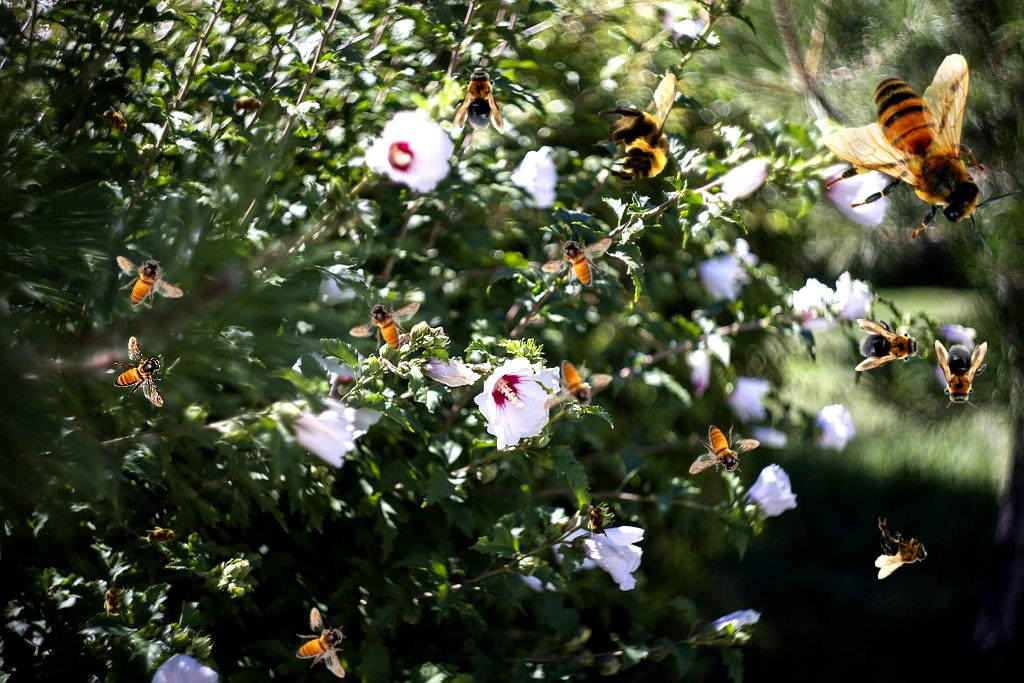Bee: (823, 53, 1022, 257), (590, 71, 697, 186), (102, 237, 186, 324), (542, 360, 613, 410), (689, 425, 760, 475), (296, 607, 346, 678), (541, 237, 612, 287), (349, 301, 420, 351), (114, 336, 164, 407), (452, 66, 504, 134), (935, 340, 987, 408), (855, 319, 923, 371), (875, 517, 928, 579), (94, 99, 138, 145), (228, 95, 268, 117), (142, 526, 182, 548), (103, 581, 125, 621), (587, 501, 609, 541)
